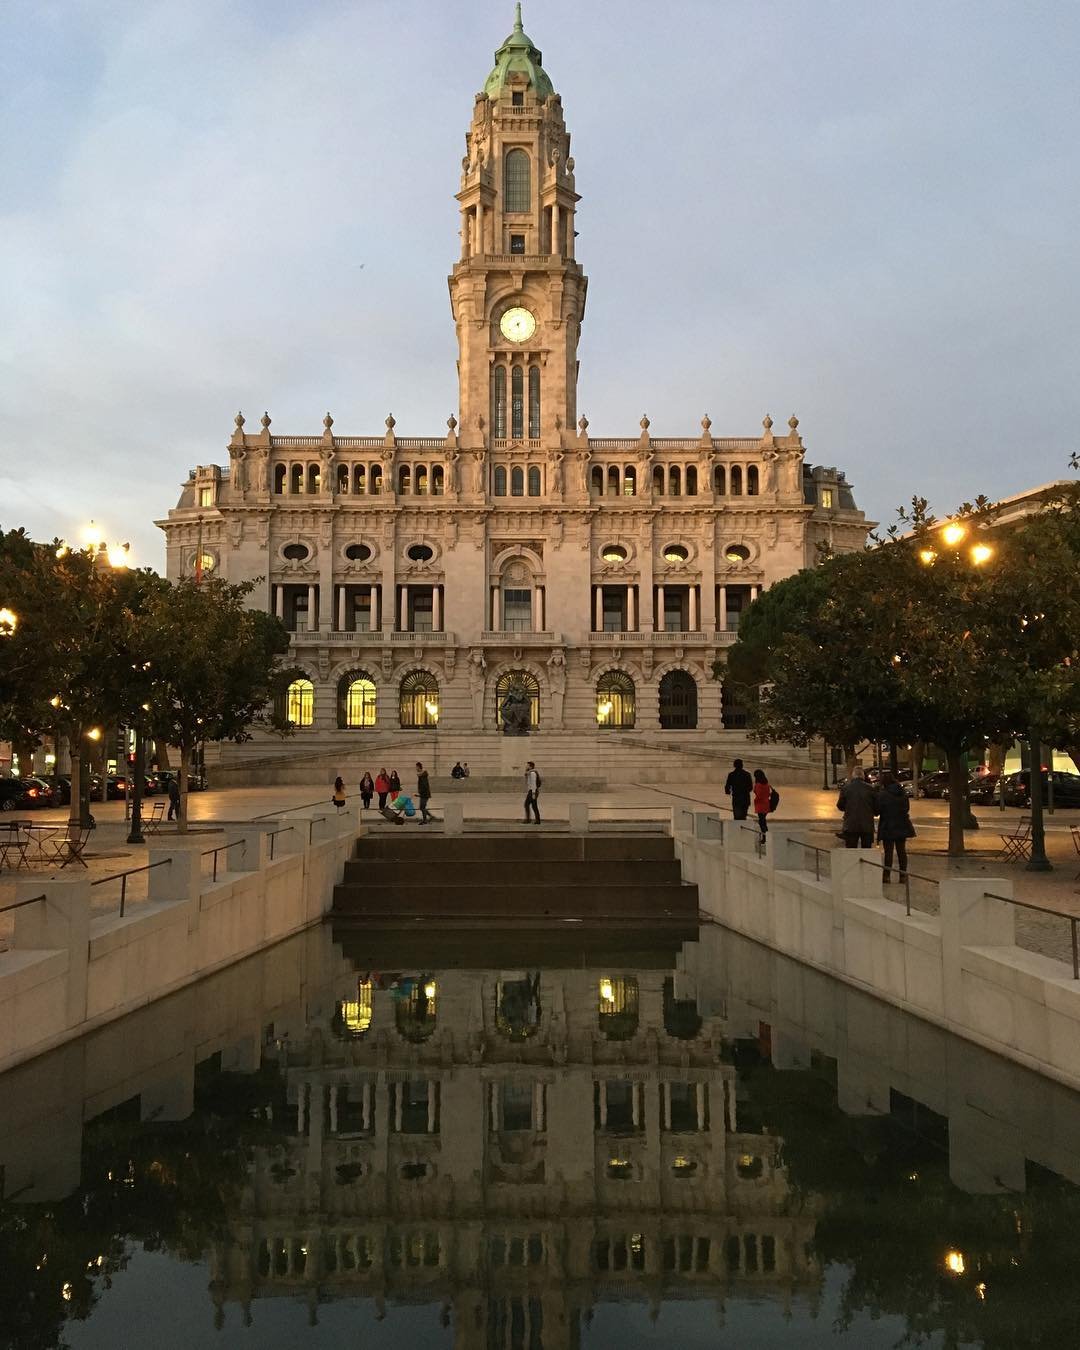camara: (151, 0, 881, 767)
